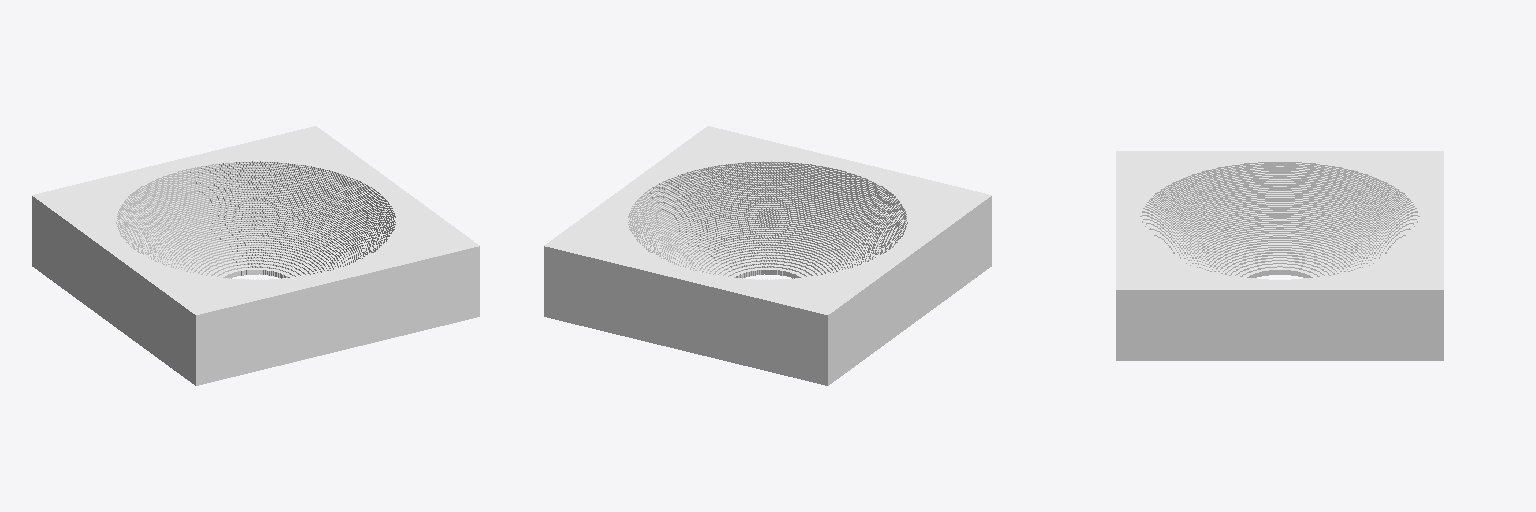
File: Arena1.obj
The picture shows the model from 3 angles: view 1: azimuth 30°, elevation 25°; view 2: azimuth 150°, elevation 25°; view 3: azimuth 270°, elevation 25°; orthographic projection.
Parts seen in each view (by area): view 1: object 1; view 2: object 1; view 3: object 1.
Boxes of the visible parts, x1,y1,x2,y2 form: object 1: [32, 126, 479, 385]; object 1: [544, 126, 991, 385]; object 1: [1116, 151, 1443, 360].
Bounding box in the file's own units: 24 × 5.7 × 24.